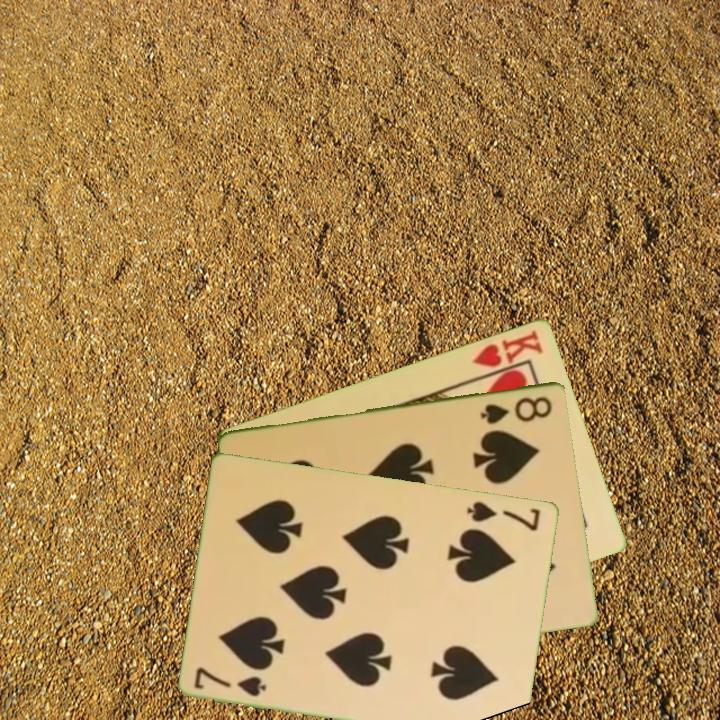7s: (464, 497, 544, 534), (191, 663, 270, 700)
8s: (477, 392, 556, 427)
Kh: (469, 326, 546, 380)
